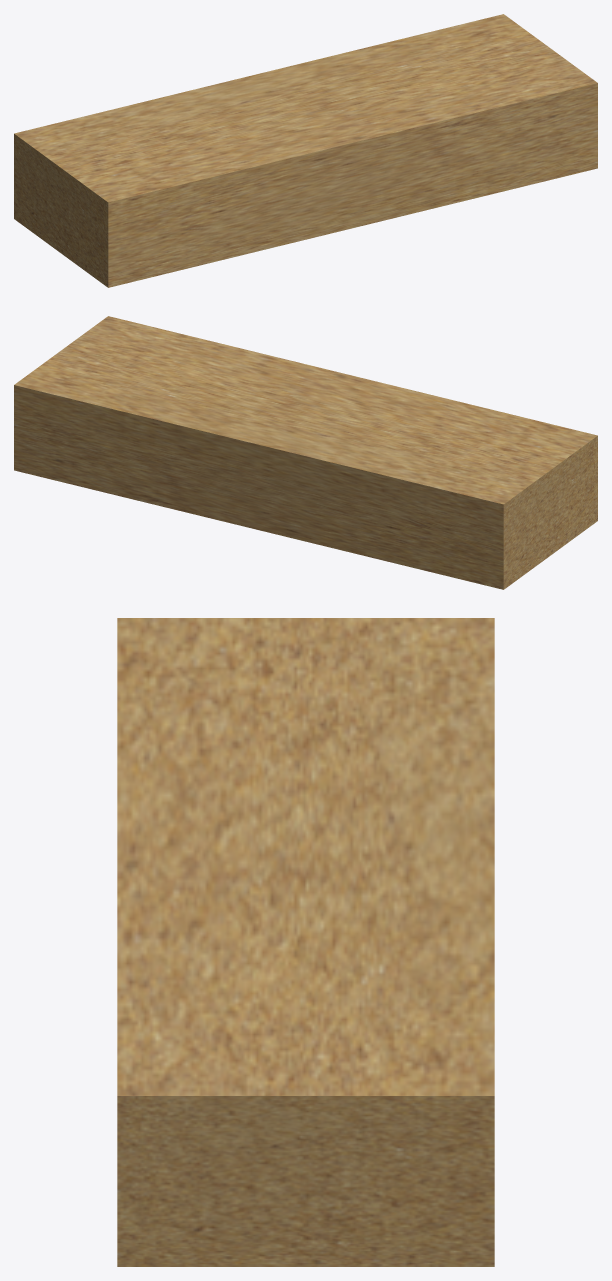
File: groundPath.obj
The picture shows the model from 3 angles, top to bottom: view 1: azimuth 30°, elevation 25°; view 2: azimuth 150°, elevation 25°; view 3: azimuth 270°, elevation 25°; orthographic projection. The views are drawn at different scales.
Parts seen in each view (by area): view 1: pCube1; view 2: pCube1; view 3: pCube1.
Part boxes in pixels (left/top/right/bottom): pCube1: left=14, top=14, right=597, bottom=287; pCube1: left=14, top=316, right=597, bottom=589; pCube1: left=117, top=618, right=494, bottom=1266.
Size of the model in its own units: 6 by 1 by 2.
1 material, 1 textured.
